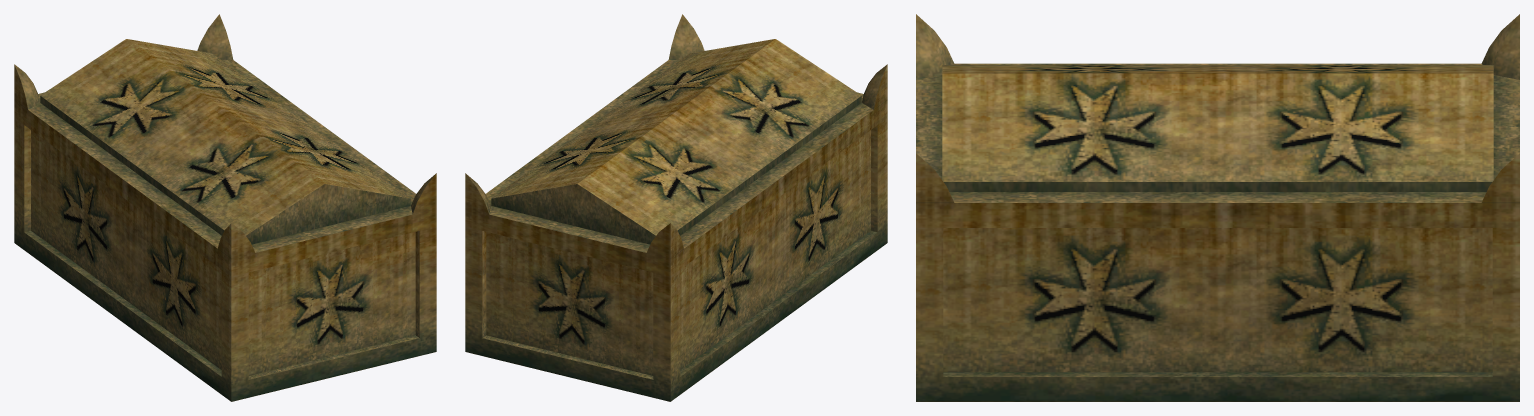
File: Knights_Coffin01.glb
3 renders of one model, left to right at view 1: azimuth 30°, elevation 25°; view 2: azimuth 150°, elevation 25°; view 3: azimuth 270°, elevation 25°, orthographic. The views are drawn at different scales.
Visible parts, largest first — view 1: KNIGHTS_COFFIN01; view 2: KNIGHTS_COFFIN01; view 3: KNIGHTS_COFFIN01.
Boxes of the visible parts, box(x1,y1,x2,y2) form: KNIGHTS_COFFIN01: box(14, 14, 436, 401); KNIGHTS_COFFIN01: box(465, 14, 887, 401); KNIGHTS_COFFIN01: box(916, 14, 1519, 401).
Size of the model in its own units: 1.5 by 1.3 by 2.75.
1 material, 1 textured.
